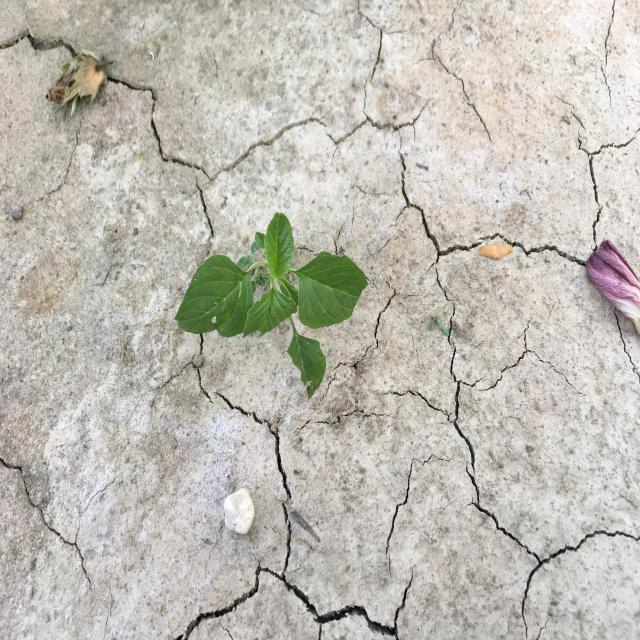PalmerAmaranth: (173, 209, 369, 403)
